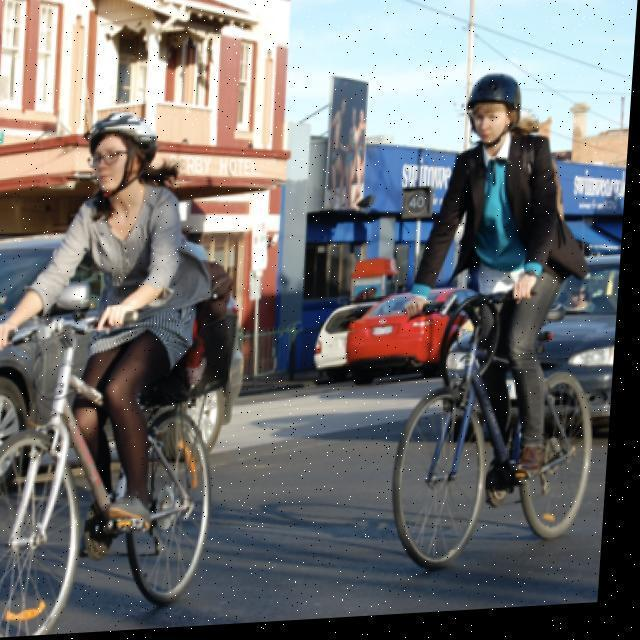Helmet: (80, 110, 168, 201), (456, 66, 534, 160)
